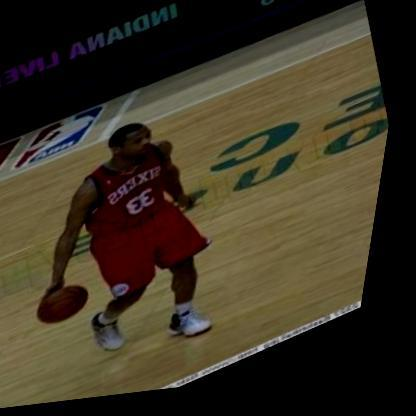basketball: (35, 274, 112, 340)
